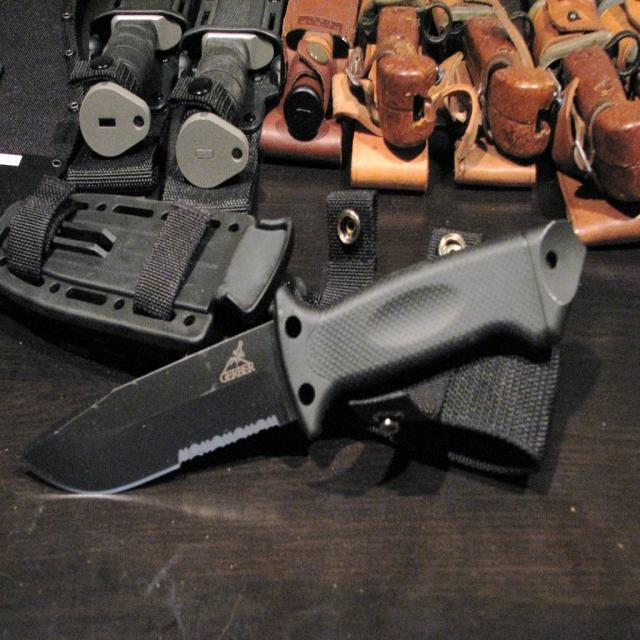Knife: (26, 221, 585, 492), (171, 0, 282, 189), (71, 0, 191, 157), (450, 2, 556, 159), (562, 29, 640, 202), (374, 5, 439, 150), (282, 30, 349, 139)
